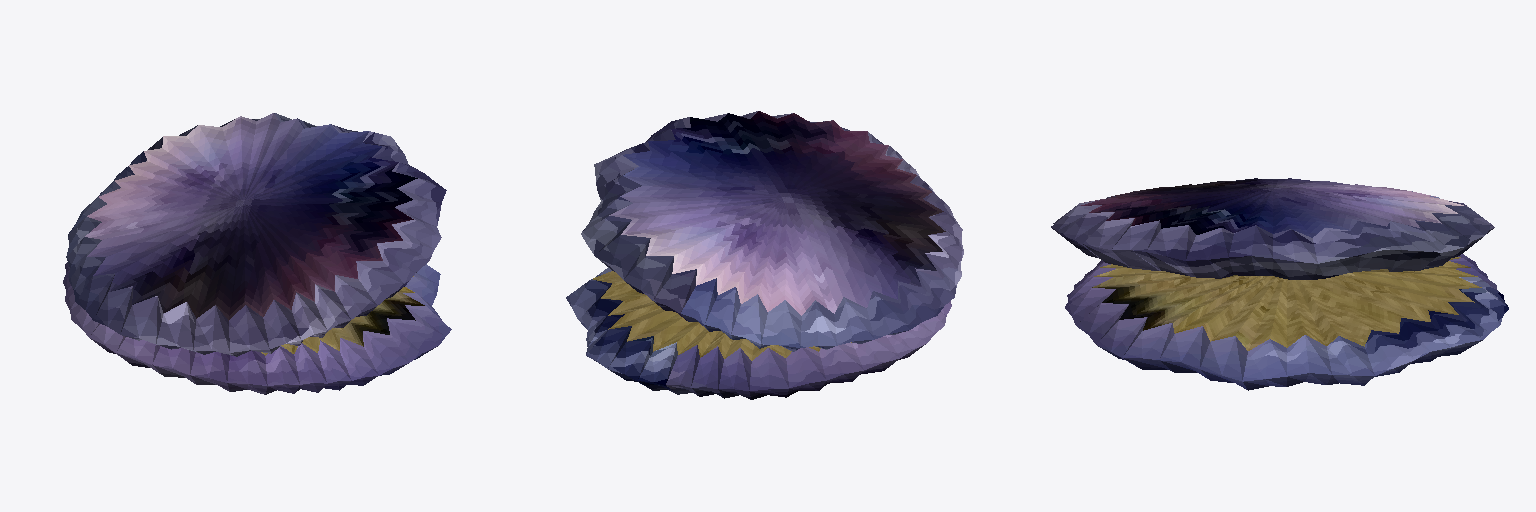
The picture shows the model from 3 angles: view 1: azimuth 30°, elevation 25°; view 2: azimuth 150°, elevation 25°; view 3: azimuth 270°, elevation 25°; orthographic projection.
Visible parts, largest first — view 1: Cylinder; view 2: Cylinder; view 3: Cylinder.
Part boxes in pixels (x1,y1,x2,y2): Cylinder: (63, 113, 451, 394); Cylinder: (566, 111, 963, 399); Cylinder: (1051, 178, 1508, 390).
Size of the model in its own units: 1.57 by 0.7437 by 1.89.
Materials: 1 (1 with a texture image).